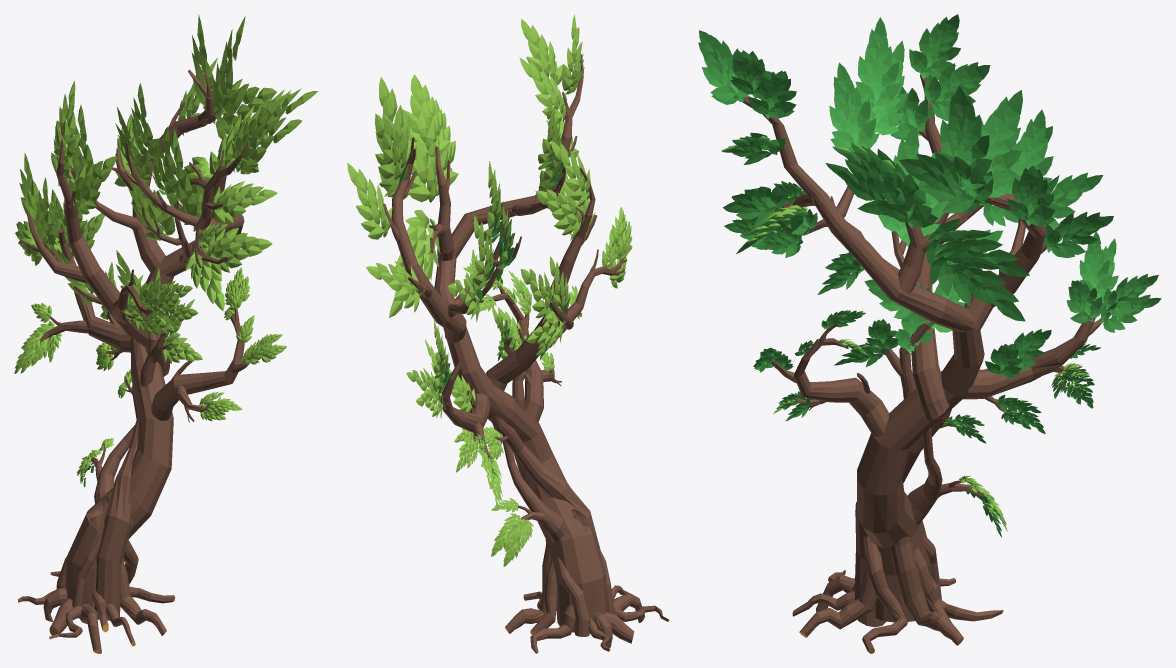
Rendered from twisted_tree.dae.
3 views of the same model, side by side, from view 1: azimuth 30°, elevation 25°; view 2: azimuth 150°, elevation 25°; view 3: azimuth 270°, elevation 25° (orthographic). The views are drawn at different scales.
Parts seen in each view (by area): view 1: group1406566609; view 2: group1406566609; view 3: group1406566609.
Part boxes in pixels (x1=…): group1406566609: x1=14, y1=14, x2=318, y2=653; group1406566609: x1=347, y1=14, x2=669, y2=653; group1406566609: x1=698, y1=14, x2=1161, y2=653.
Size of the model in its own units: 2.14 by 2.75 by 4.28.
